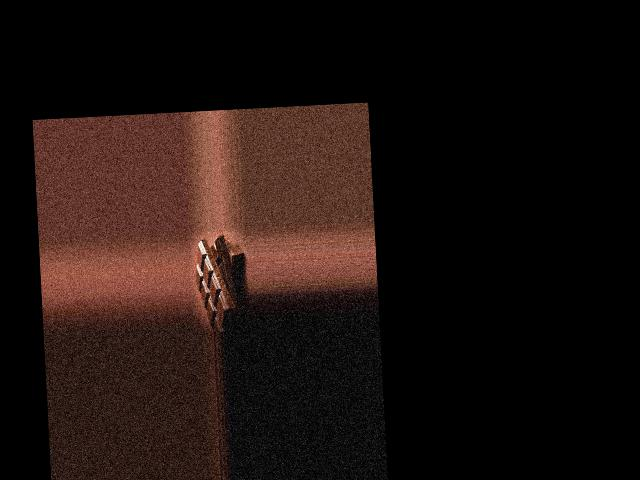chocolate: (194, 235, 241, 330)
